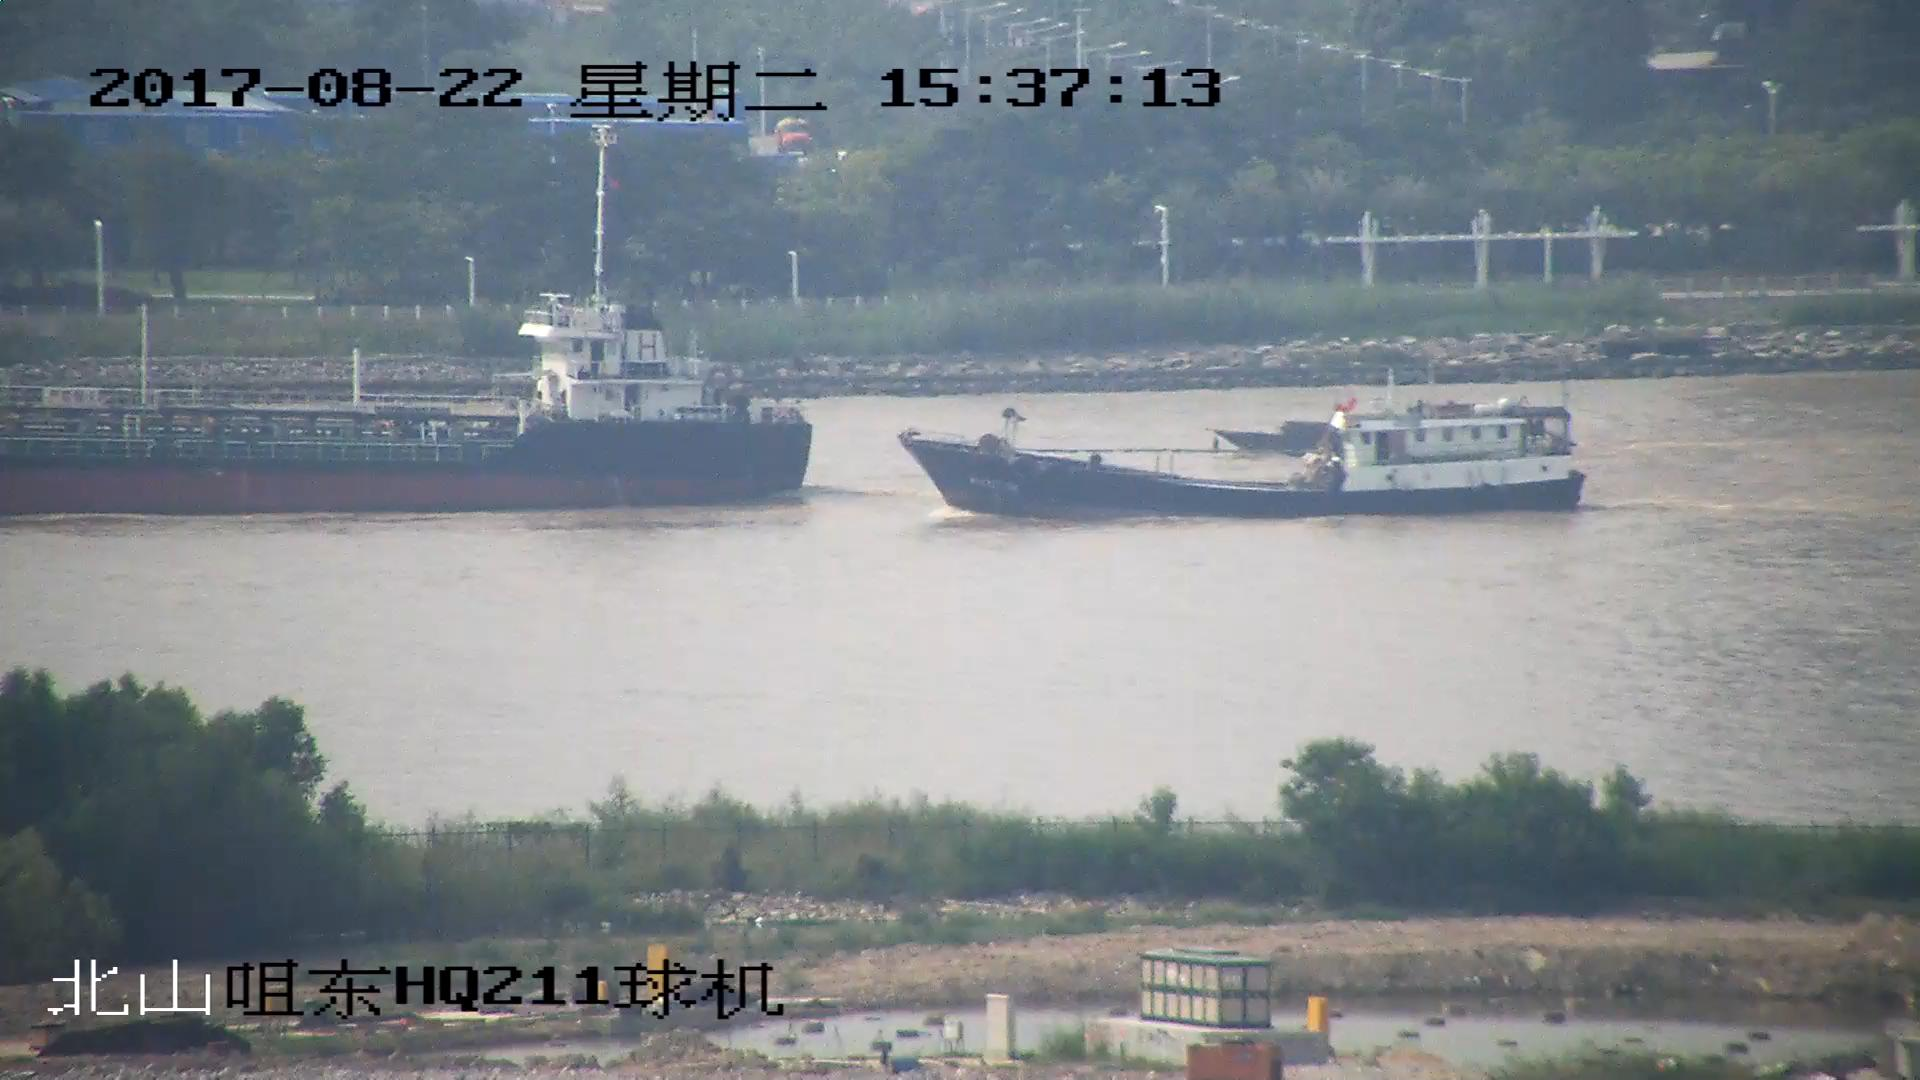fishing boat: (902, 391, 1591, 522), (1218, 416, 1327, 452)
general cargo ship: (1, 123, 821, 508)
